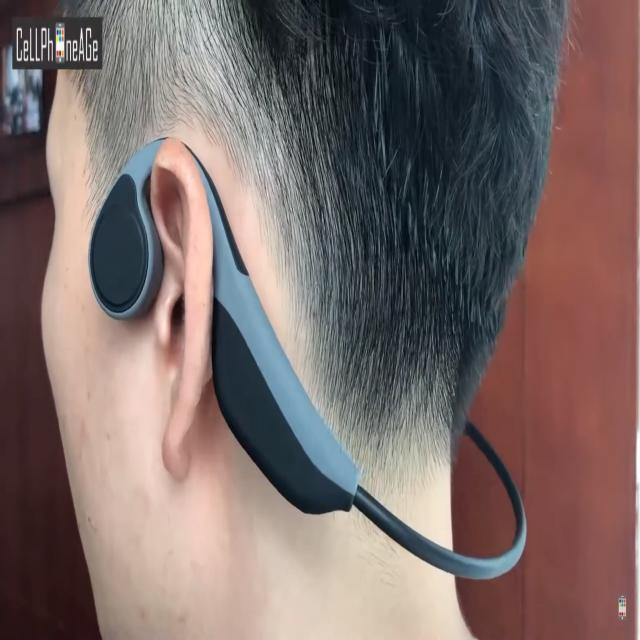Neckband: (87, 134, 528, 582)
